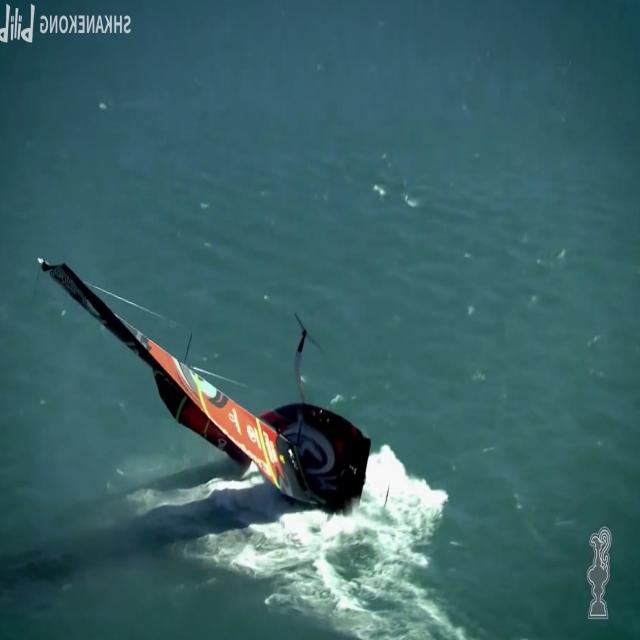sailboat: (31, 253, 372, 512)
